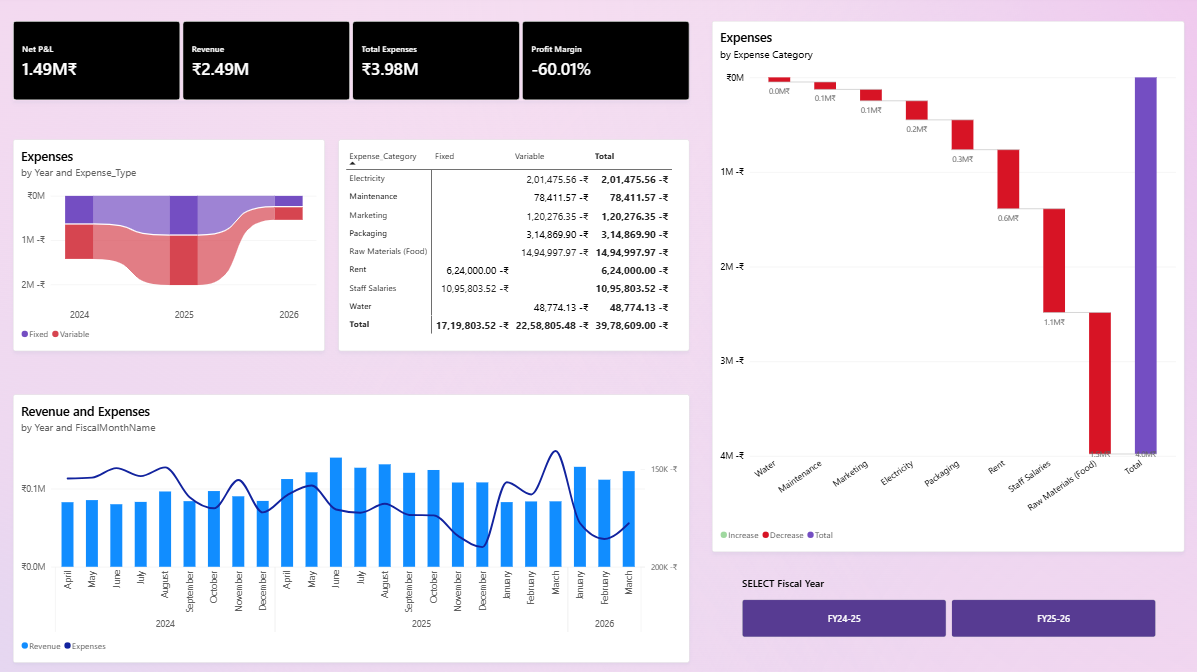

What the dashboard file says about the page in this screenshot:
{"tool":"powerbi","page":{"name":"Expenses","canvas":[1920,1080],"ordinal":2},"visuals":[{"type":"cardVisual","fields":{"Data":["Key Measures Table.Net Profit","Key Measures Table.Revenue","Sum(Expenses.Amount)","Key Measures Table.Profit Margin"]},"box":[28.6,33.4,1076.1,126.6],"z":0},{"type":"waterfallChart","fields":{"Category":["Expenses.Expense_Category"],"Y":["Key Measures Table.Expenses"]},"box":[1140.5,33.4,751.6,844.6],"z":1000},{"type":"pivotTable","fields":{"Columns":["Expenses.Expense_Type"],"Rows":["Expenses.Expense_Category"],"Values":["Key Measures Table.Expenses"]},"box":[546.4,221.9,558.3,336.4],"z":2000},{"type":"lineStackedColumnComboChart","fields":{"Category":["DimDate.Year","DimDate.FiscalMonthName"],"Y":["Key Measures Table.Revenue"],"Y2":["Key Measures Table.Expenses"]},"box":[28.1,628.3,1076.1,426.7],"z":3000},{"type":"ribbonChart","fields":{"Category":["DimDate.Year"],"Series":["Expenses.Expense_Type"],"Y":["Key Measures Table.Expenses"]},"box":[28.6,221.9,496.3,336.4],"z":4000},{"type":"advancedSlicerVisual","fields":{"Values":["DimDate.FiscalYear"]},"box":[1188.2,916.2,658.5,97.8],"z":5000}]}

Visuals, with their boxes in screenshot pixels (x1, y1, x2, y2), scaled from the page's 1920x1080 canvas onto the 1197x672 screenshot:
cardVisual - Key Measures Table.Net Profit x Key Measures Table.Revenue: detection(18, 21, 689, 100)
waterfallChart - Expenses.Expense_Category x Key Measures Table.Expenses: detection(711, 21, 1180, 546)
pivotTable - Expenses.Expense_Type x Expenses.Expense_Category: detection(341, 138, 689, 347)
lineStackedColumnComboChart - DimDate.Year x DimDate.FiscalMonthName: detection(18, 391, 688, 656)
ribbonChart - DimDate.Year x Expenses.Expense_Type: detection(18, 138, 327, 347)
advancedSlicerVisual - DimDate.FiscalYear: detection(741, 570, 1151, 631)
